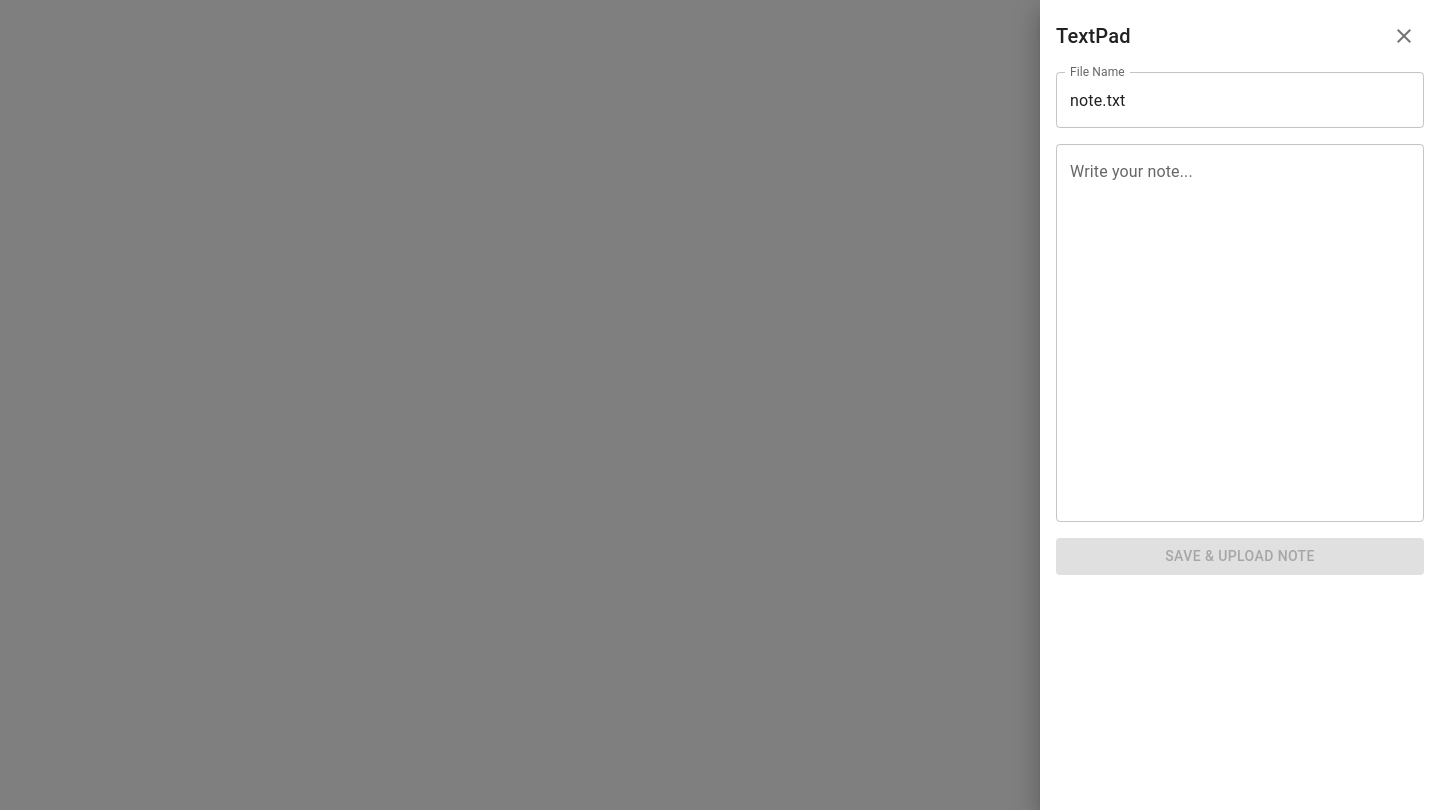
Test case: shows an in-app error instead of a native alert for an invalid file name
Type "hello" into the text box labelled "Write your note..." at (1240, 333), box x1=1070 y1=160 x2=1410 y2=506
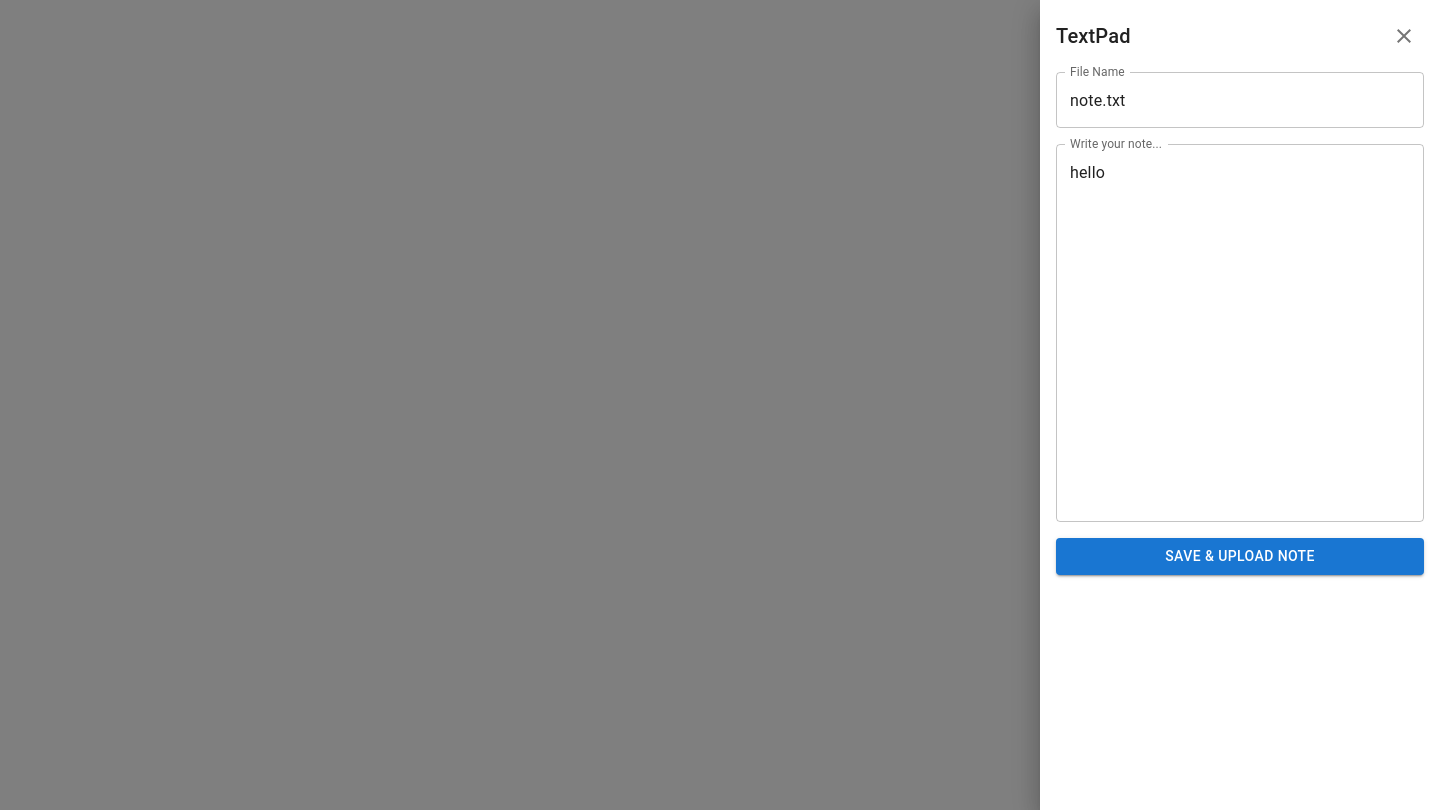
Replace the text in the field labelled "File Name" with "a/b" at (1240, 100), box x1=1056 y1=72 x2=1424 y2=128
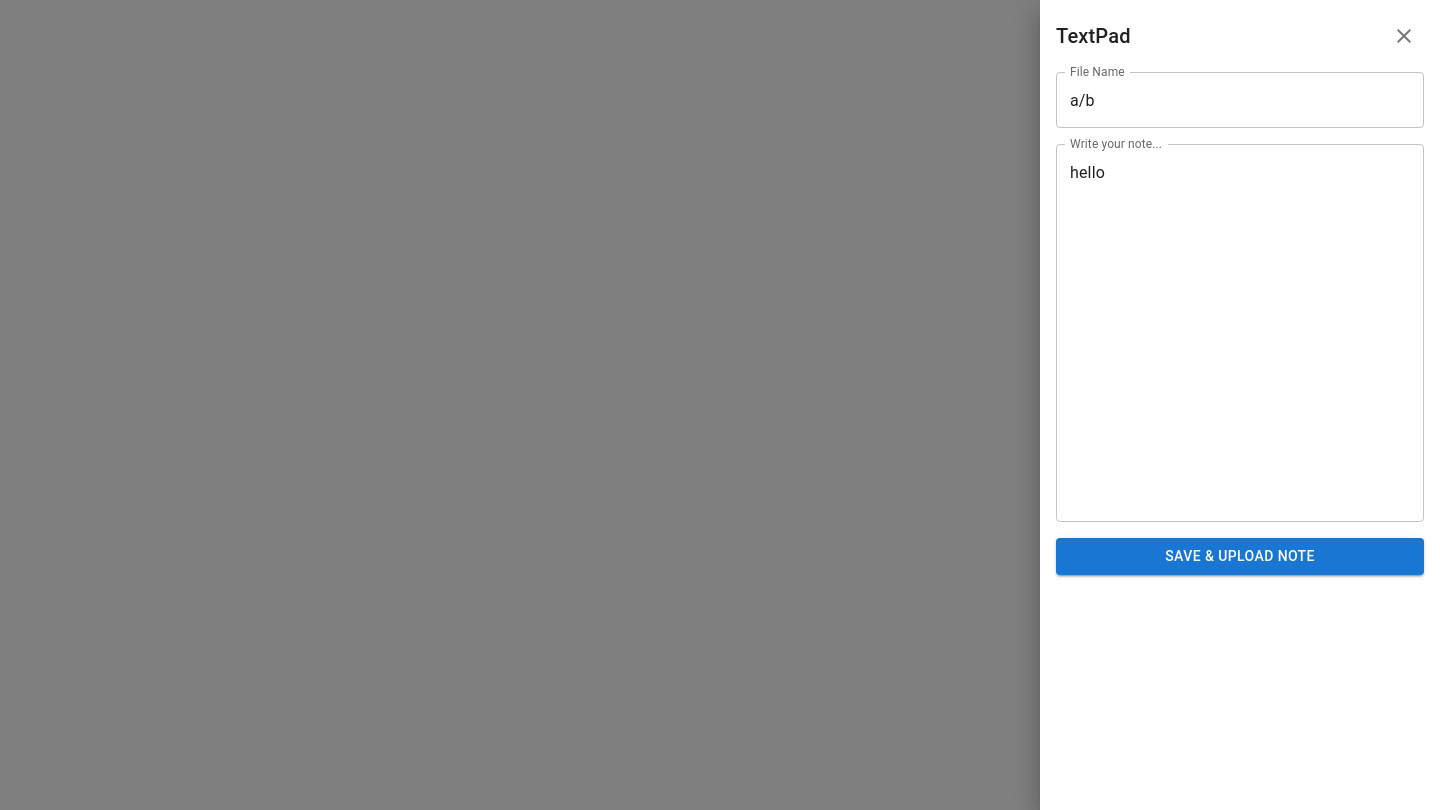
Click the button "Save & Upload Note" at (1240, 556), box x1=1056 y1=538 x2=1424 y2=574
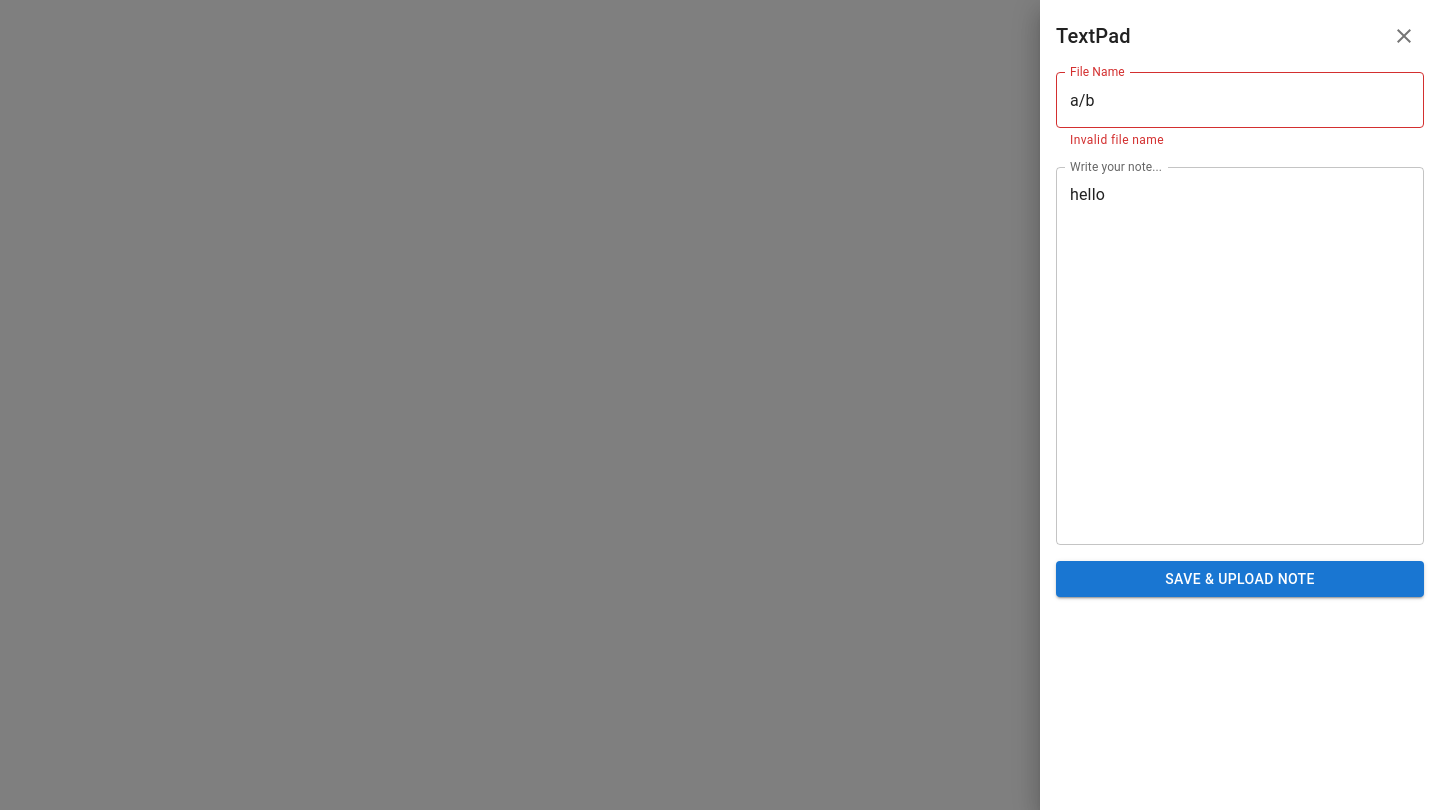
Check: the text "Invalid file name" is shown, box x1=1070 y1=133 x2=1164 y2=147
